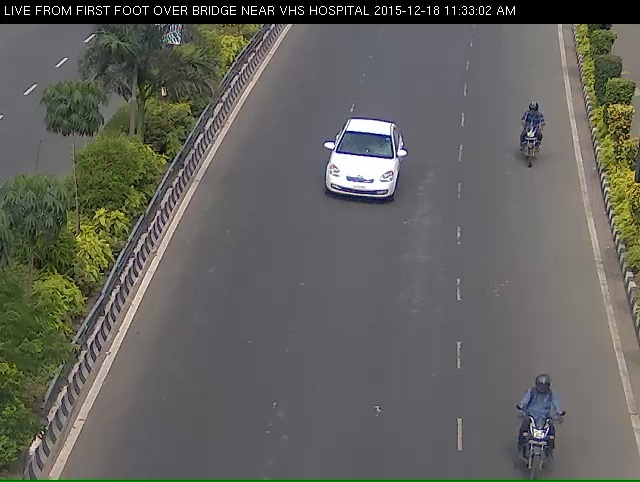Car: (311, 118, 414, 238)
Person: (511, 405, 569, 478), (518, 94, 547, 184)
